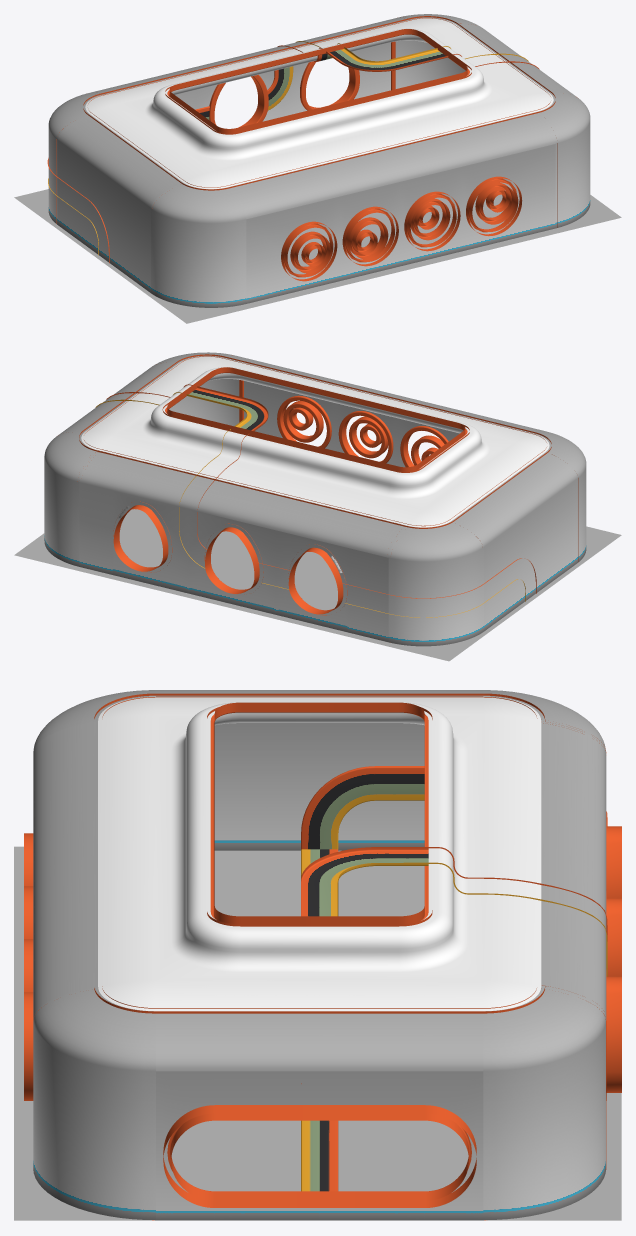
Rendered from ArchitectureV2.fbx.
3 views of the same model, one above another, from view 1: azimuth 30°, elevation 25°; view 2: azimuth 150°, elevation 25°; view 3: azimuth 270°, elevation 25° (orthographic). The views are drawn at different scales.
Parts seen in each view (by area): view 1: plafond, wall_circles, wall_back, dividers_circle, ground, wall_egg, wall_corner_002, divider_04, bande_deco, divider_01, wall_corner_001, divider_06; view 2: wall_egg, plafond, wall_back, ground, wall_circles, wall_corner_001, dividers_circle, divider_04, divider_01, bande_deco, wall_corner_002, divider_06; view 3: plafond, divider_06, ground, wall_back, wall_corner_001, wall_corner_002, wall_egg, wall_circles, bande_deco, divider_07, divider_04, divider_01 (+1 smaller).
Part boxes in pixels (left/top/right/bottom): plafond: left=85, top=18, right=553, bottom=189; wall_circles: left=228, top=112, right=555, bottom=303; wall_back: left=48, top=92, right=246, bottom=307; dividers_circle: left=281, top=176, right=522, bottom=281; ground: left=14, top=182, right=621, bottom=323; wall_egg: left=91, top=17, right=410, bottom=127; wall_corner_002: left=537, top=92, right=590, bottom=228; divider_04: left=165, top=29, right=471, bottom=134; bande_deco: left=47, top=41, right=539, bottom=262; divider_01: left=83, top=16, right=555, bottom=190; wall_corner_001: left=395, top=14, right=481, bottom=88; divider_06: left=456, top=24, right=574, bottom=95; wall_egg: left=79, top=451, right=406, bottom=642; plafond: left=81, top=356, right=549, bottom=527; wall_back: left=388, top=431, right=586, bottom=646; ground: left=14, top=509, right=621, bottom=661; wall_circles: left=224, top=355, right=543, bottom=467; wall_corner_001: left=44, top=431, right=96, bottom=566; dividers_circle: left=277, top=395, right=448, bottom=467; divider_04: left=162, top=367, right=469, bottom=472; divider_01: left=79, top=354, right=551, bottom=528; bande_deco: left=95, top=384, right=536, bottom=617; wall_corner_002: left=153, top=352, right=239, bottom=426; divider_06: left=59, top=363, right=178, bottom=434; plafond: left=98, top=696, right=541, bottom=1011; divider_06: left=156, top=1013, right=483, bottom=1220; ground: left=14, top=846, right=621, bottom=1220; wall_back: left=33, top=690, right=605, bottom=850; wall_corner_001: left=483, top=987, right=606, bottom=1220; wall_corner_002: left=33, top=987, right=155, bottom=1220; wall_egg: left=541, top=721, right=621, bottom=1100; wall_circles: left=33, top=721, right=97, bottom=1016; bande_deco: left=301, top=766, right=607, bottom=1191; divider_07: left=163, top=1105, right=476, bottom=1207; divider_04: left=207, top=702, right=432, bottom=926; divider_01: left=94, top=693, right=545, bottom=1013.
Bounding box in the file's own units: 1014 × 280 × 682.
Materials: 2 (1 with a texture image).
